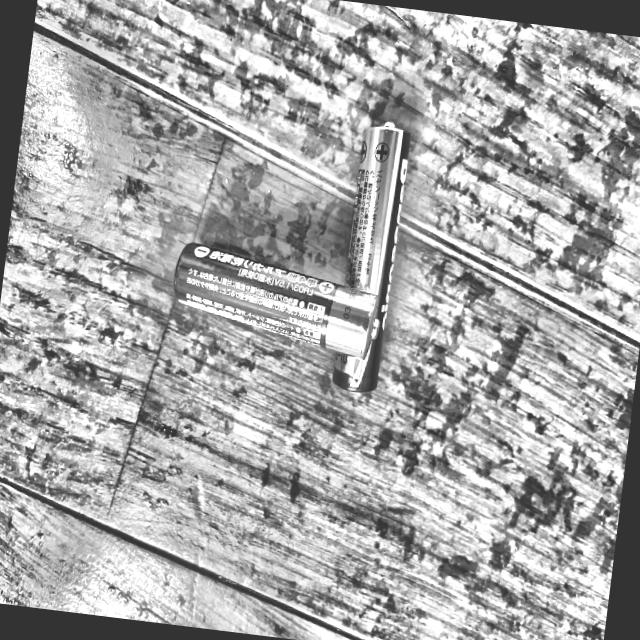drycell: (156, 226, 399, 367), (324, 110, 422, 406)
